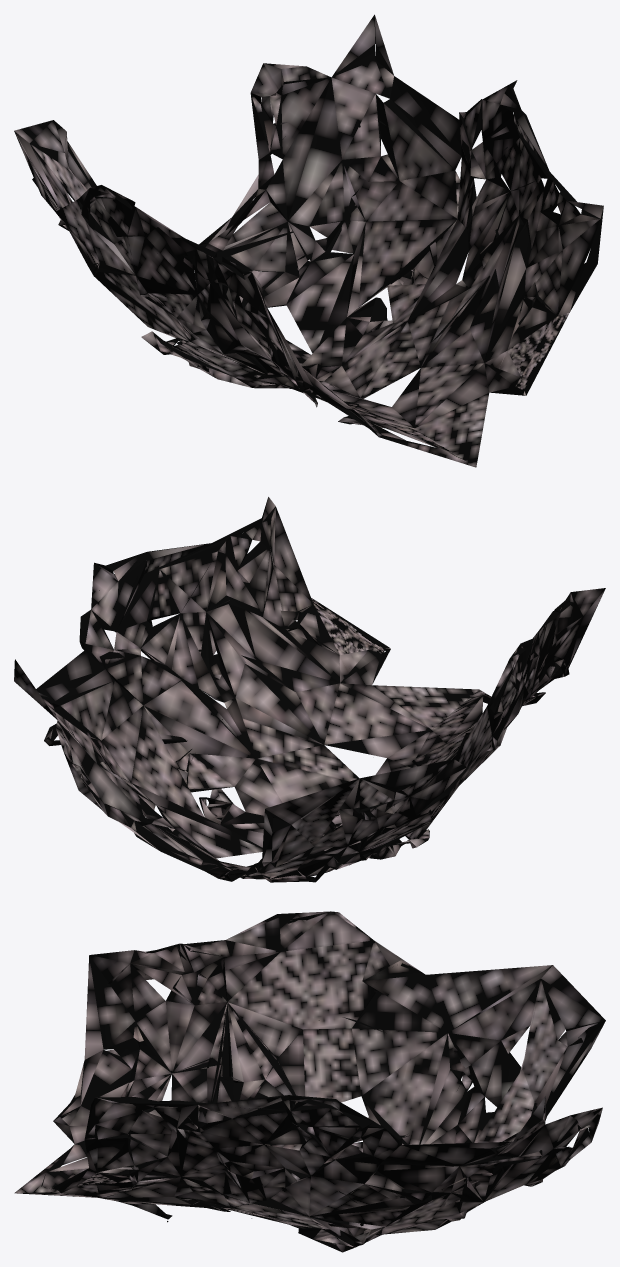
Rendered from vampire_chestplate_LOD3.glb.
3 views of the same model, one above another, from view 1: azimuth 30°, elevation 25°; view 2: azimuth 150°, elevation 25°; view 3: azimuth 270°, elevation 25° (orthographic). The views are drawn at different scales.
Visible parts, largest first — view 1: vampire_chestplate_LOD3; view 2: vampire_chestplate_LOD3; view 3: vampire_chestplate_LOD3.
Part boxes in pixels (box(x1,y1,x2,y2)): vampire_chestplate_LOD3: box(14, 14, 603, 467); vampire_chestplate_LOD3: box(14, 497, 605, 882); vampire_chestplate_LOD3: box(14, 911, 605, 1252).
Size of the model in its own units: 0.5776 by 0.3214 by 0.7504.
1 material, 1 textured.
